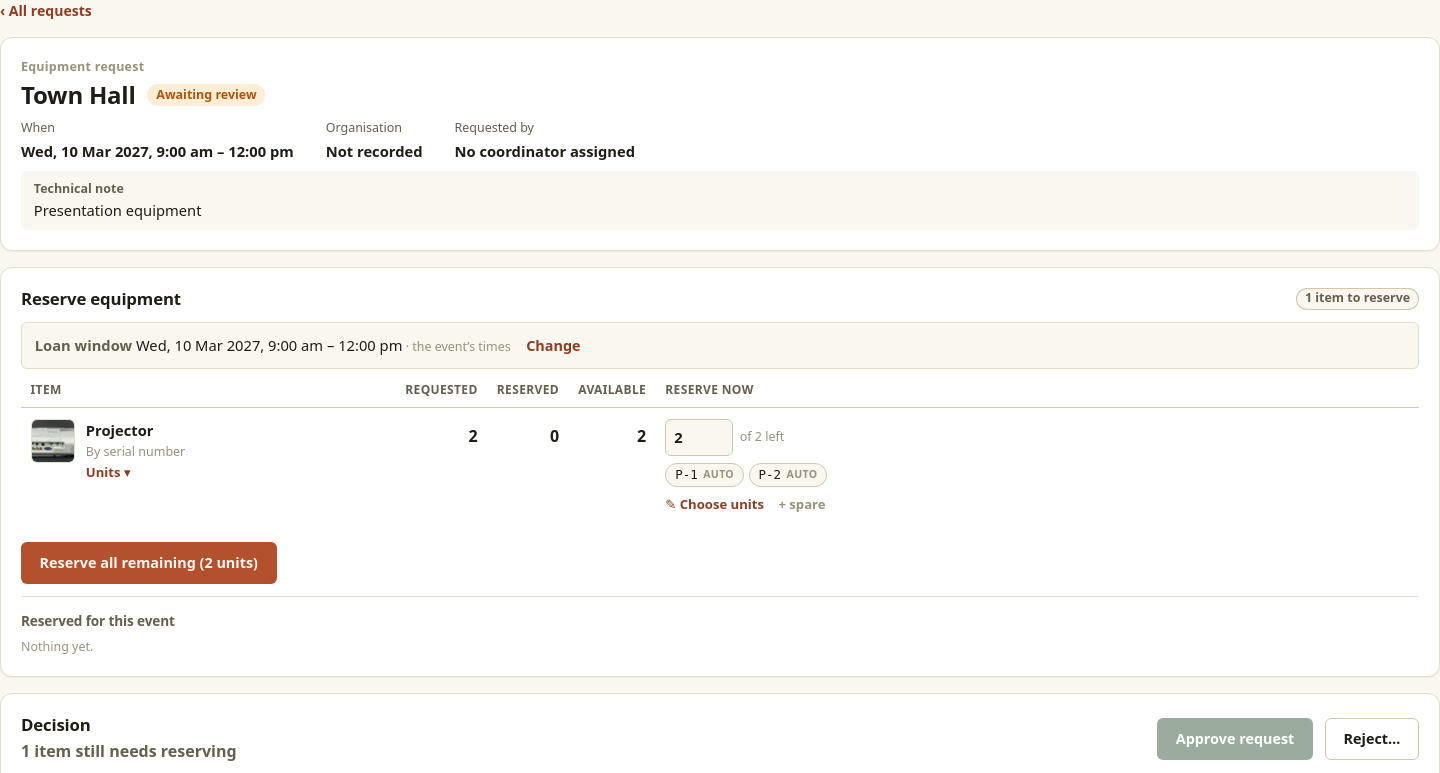
Test: TS01 equipment request review › TS01 (happy): compares itemised requirements with period availability and suitable unit statuses
Expected: the heading "Town Hall" is shown, [21,81,136,110]
Expected: the column heading "Requested" is shown, [396,382,487,407]
Click the button "Units ▾" at (108, 473), box [86,463,130,482]
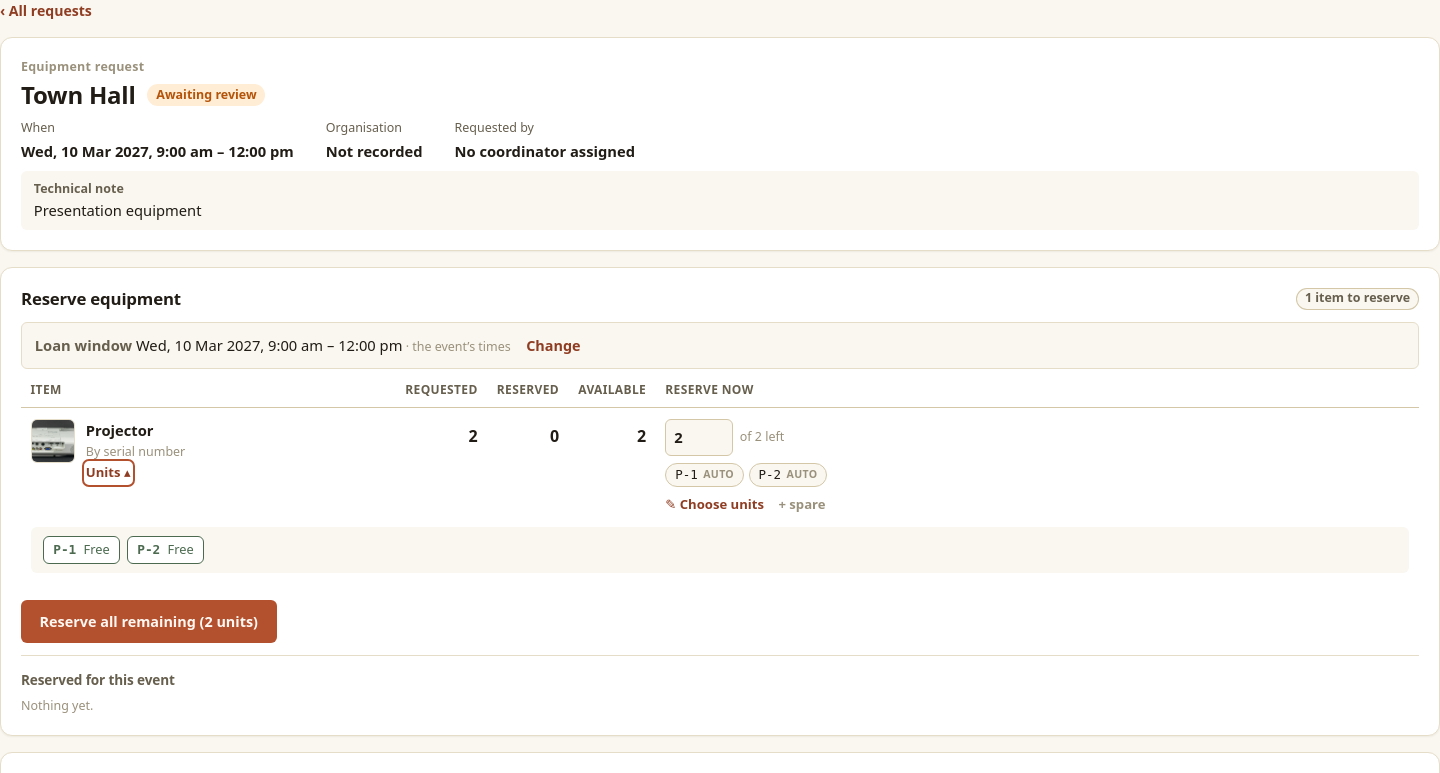
Expected: the text "P-1" is shown, [53,540,76,560]
Expected: the text "Free" is shown 2 times, [84,540,110,560]; [168,540,194,560]
